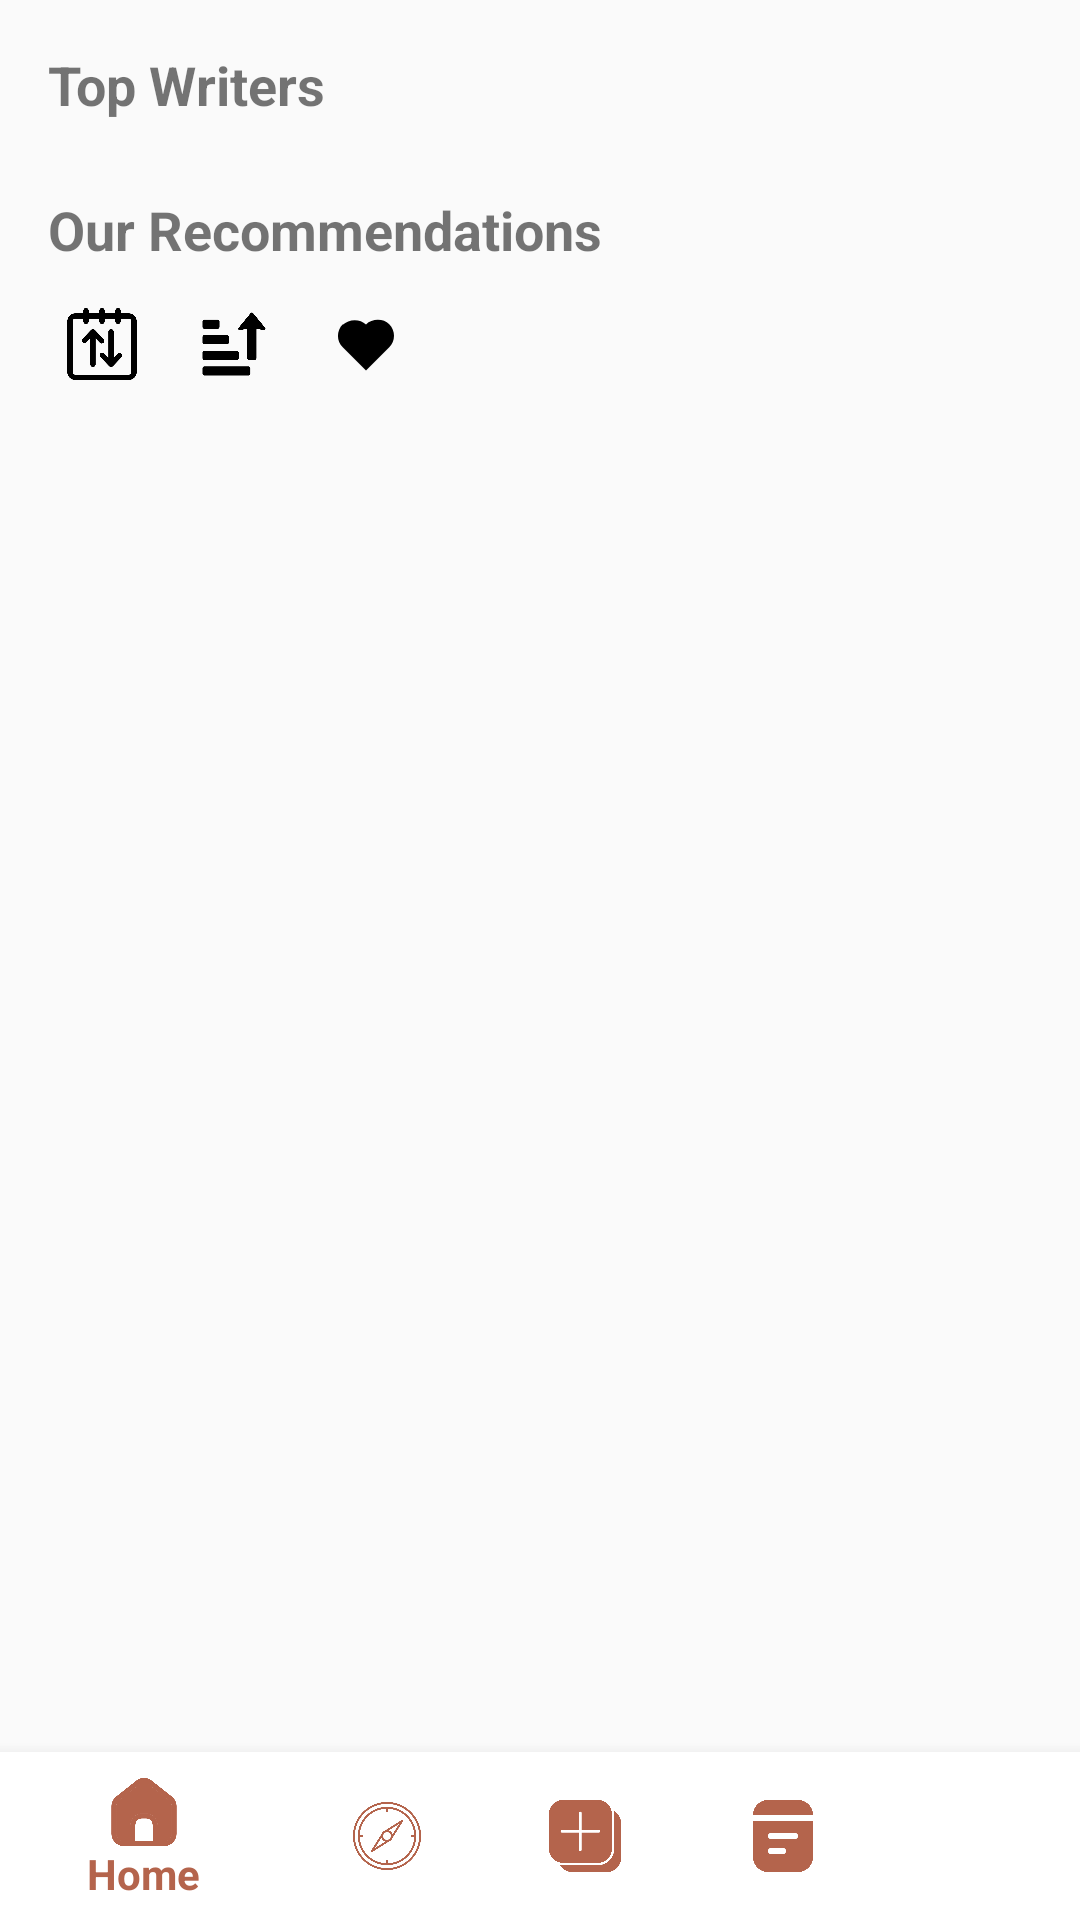

Icon bounding boxes for this 1080×1920 phone screenshot, format (x1, y1, x2, y2):
Filter by Likes: (338, 319, 394, 371)
Sort by Date: (67, 308, 137, 380)
